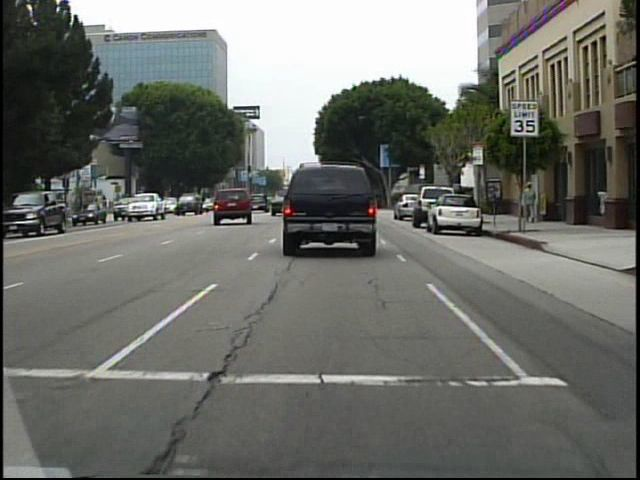person: (521, 180, 541, 228), (452, 183, 468, 219)
